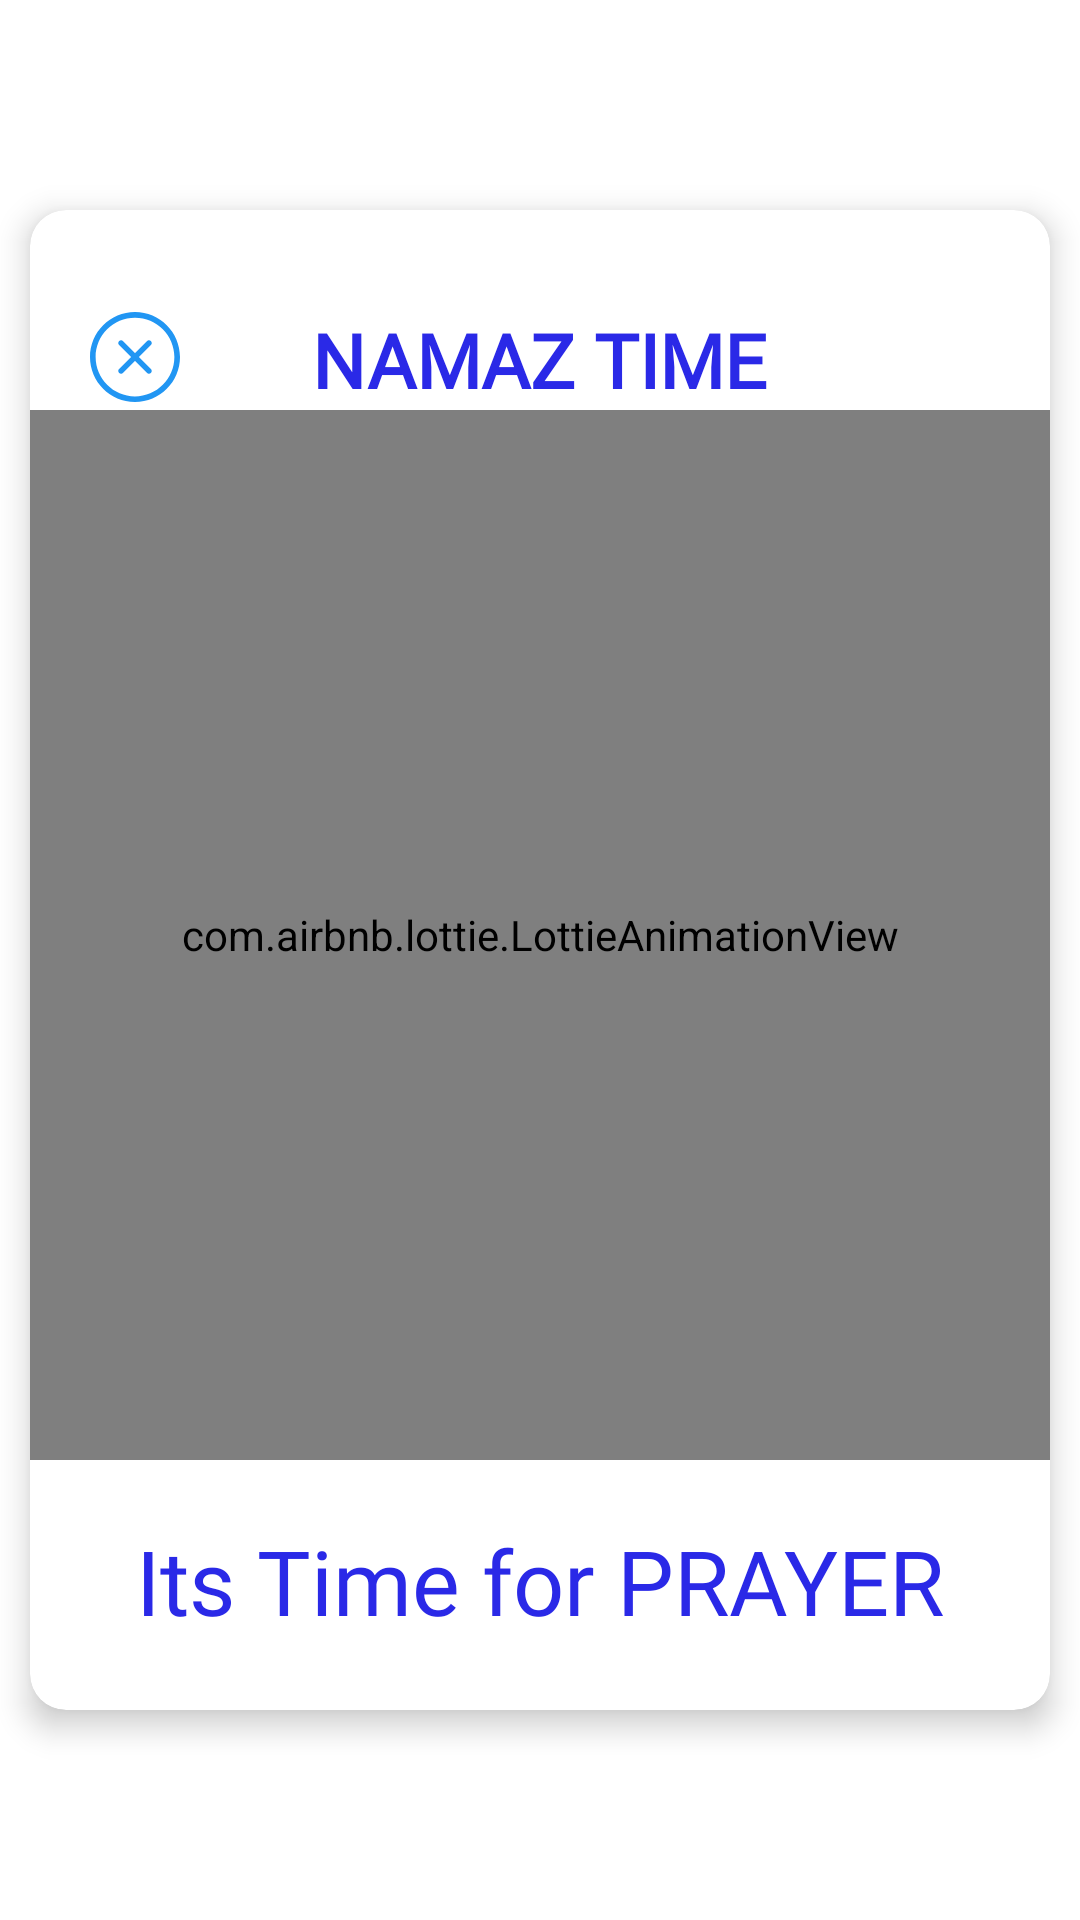

Screen size 1080*1920. Icon name, then its center in pixels as [x,y]:
remove: [135,357]
